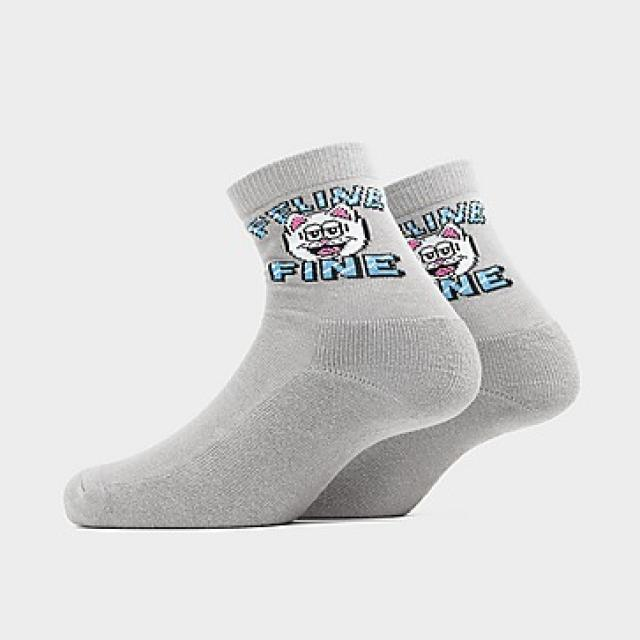sock: (62, 139, 481, 529), (293, 157, 580, 520)
